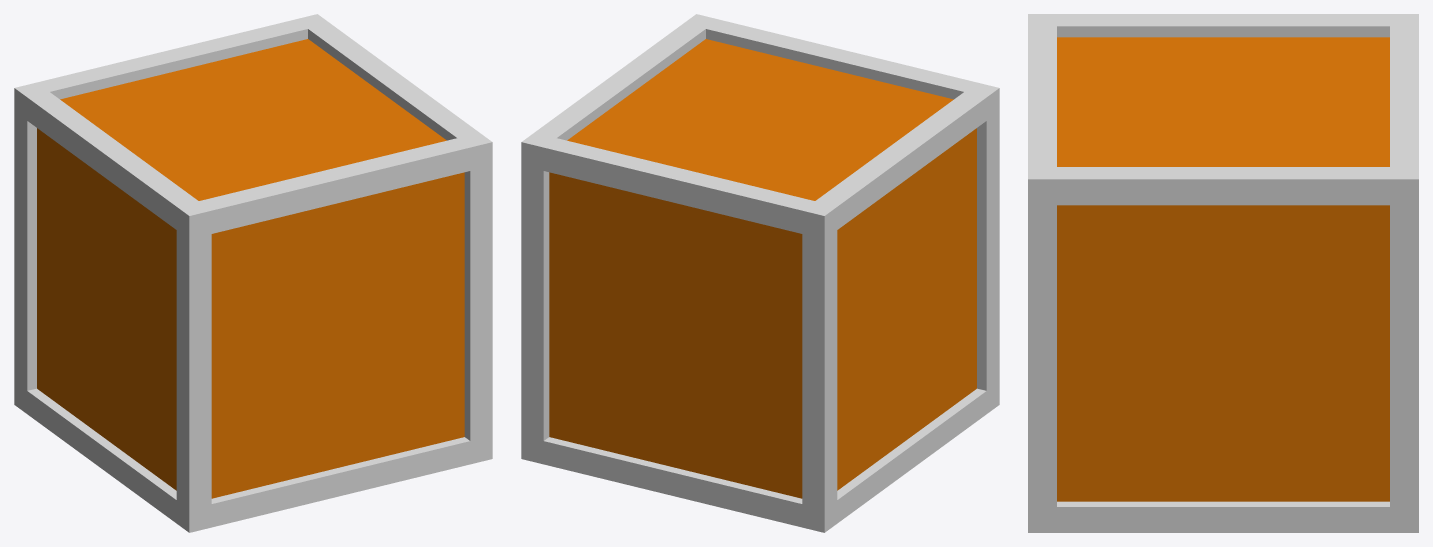
The picture shows the model from 3 angles, left to right: view 1: azimuth 30°, elevation 25°; view 2: azimuth 150°, elevation 25°; view 3: azimuth 270°, elevation 25°; orthographic projection. The views are drawn at different scales.
Visible parts, largest first — view 1: Box003; view 2: Box003; view 3: Box003.
Boxes of the visible parts, x1=… form: Box003: x1=14, y1=14, x2=492, y2=532; Box003: x1=521, y1=14, x2=999, y2=532; Box003: x1=1028, y1=14, x2=1418, y2=532.
Bounding box in the file's own units: 30 × 29.97 × 30.
